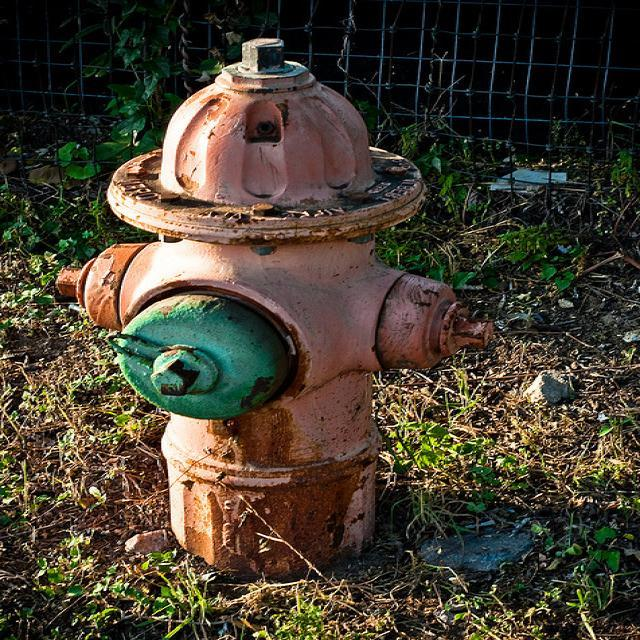fire_hydrant: (50, 38, 499, 579)
